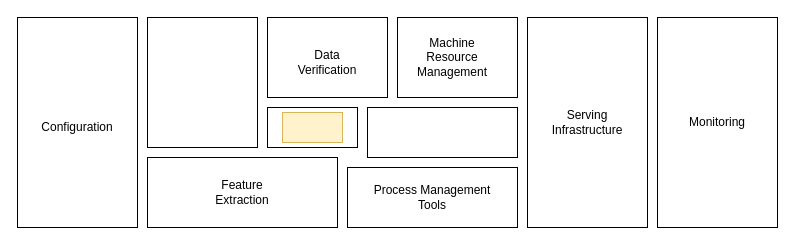
The diagram is 795 pixels wide and 245 high, and some of its shapes have lost their labels. Each missing label, with the centre of its shape:
"Analysis Tools" belongs at point (442, 132).
"Data Collection" belongs at point (202, 82).
"ML Code" belongs at point (312, 127).
